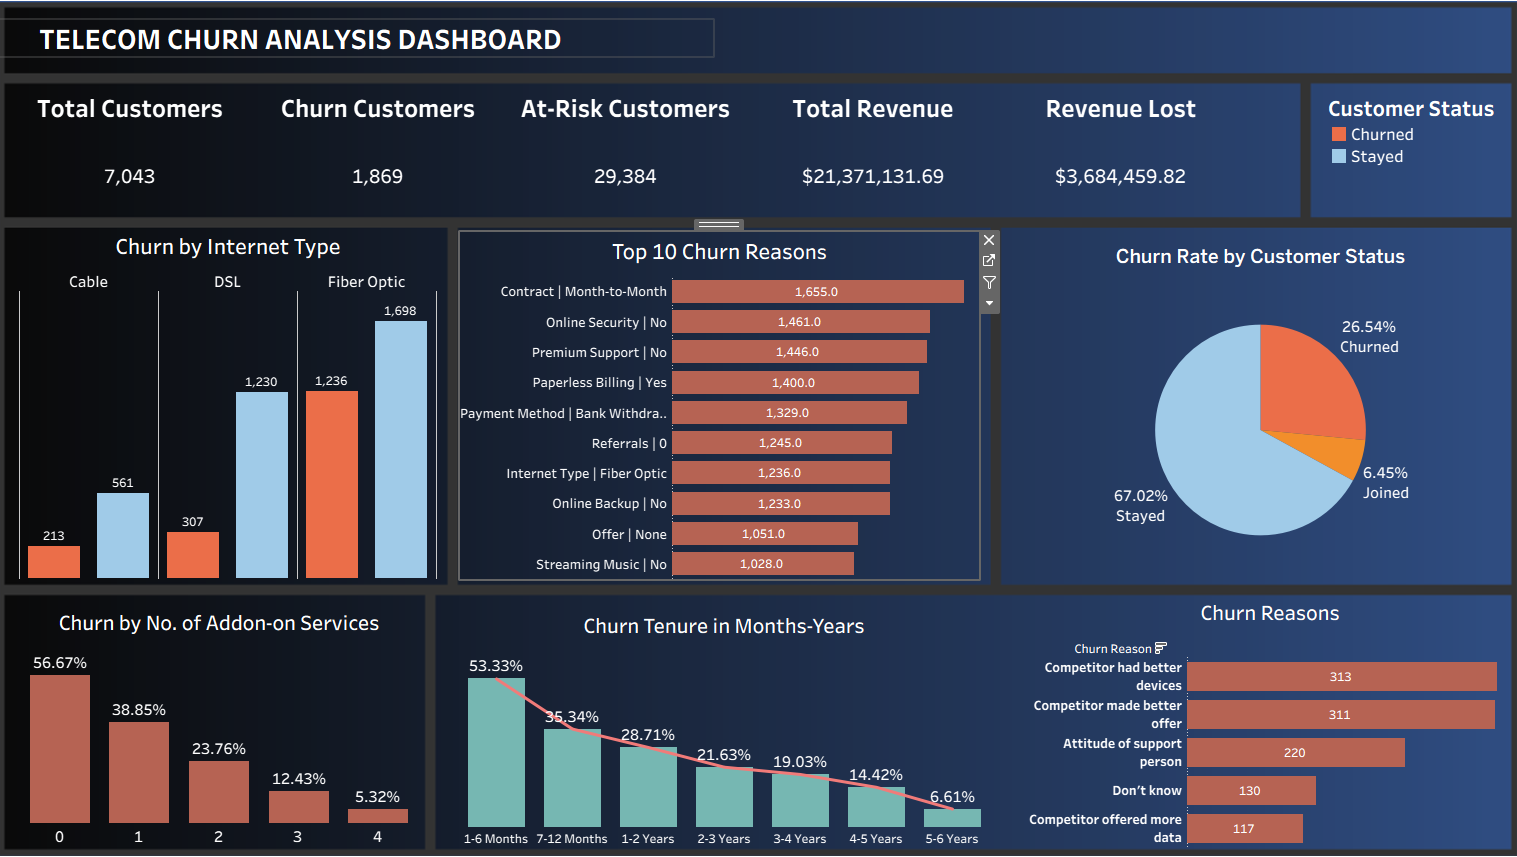

This screenshot's page, from the dashboard's own definition file:
{"tool":"tableau","page":{"name":"Dashboard 3","canvas":[1520,920],"ordinal":0},"visuals":[{"type":"image","param":"Image/HR background.pptx.png","box":[0,0,1520,920]},{"type":"worksheet","title":"Total customer","mark":"Automatic","box":[8,118,1239,138]},{"type":"legend","title":"internet type status","param":"[federated.105egqv0qatyig1b8dw9p1rndzld].[none:Customer Status:nk]","box":[1330,124,176,127]},{"type":"worksheet","title":"internet type status","mark":"Automatic","rows":["telecom_churn_cleaned.csv_65ED3D141A6E419296BD37B89034430E"],"cols":["Internet Type","Customer Status"],"box":[21,258,418,352]},{"type":"worksheet","title":"top 10 churn","mark":"Automatic","box":[462,263,519,347]},{"type":"worksheet","title":"customer status","mark":"Pie","box":[1021,272,483,340]},{"type":"worksheet","title":"churn reason","mark":"Automatic","rows":["Churn Reason"],"cols":["telecom_churn_cleaned.csv_65ED3D141A6E419296BD37B89034430E"],"box":[1029,625,486,253]},{"type":"worksheet","title":"addon","mark":"Automatic","rows":["churned_flag"],"cols":["Calculation_1378839832236035"],"box":[22,635,398,244]},{"type":"worksheet","title":"tenure cohort","mark":"Automatic","rows":["churned_flag","churned_flag"],"cols":["Calculation_1378839814610946"],"box":[460,638,532,260]}]}

Visuals, with their boxes on the page's 1520x920 design canvas (x1, y1, x2, y2). These are canvas units, not pixel positions in the 1517x857 screenshot, which may show the page scaled, cropped or inside an application window:
image: bbox=(0, 0, 1520, 920)
"Total customer" worksheet: bbox=(8, 118, 1247, 256)
"internet type status" legend: bbox=(1330, 124, 1506, 251)
"internet type status" worksheet: bbox=(21, 258, 439, 610)
"top 10 churn" worksheet: bbox=(462, 263, 981, 610)
"customer status" worksheet (Pie marks): bbox=(1021, 272, 1504, 612)
"churn reason" worksheet: bbox=(1029, 625, 1515, 878)
"addon" worksheet: bbox=(22, 635, 420, 879)
"tenure cohort" worksheet: bbox=(460, 638, 992, 898)
